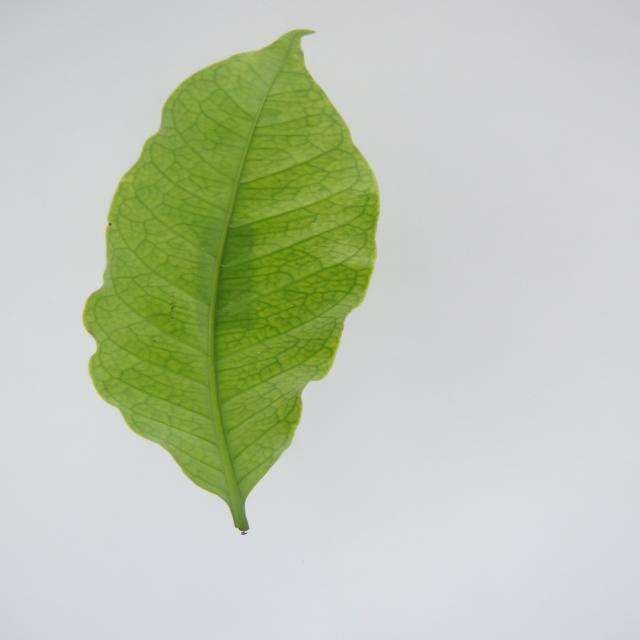DeficienciaNutricional-Calcio: (83, 30, 378, 532)
